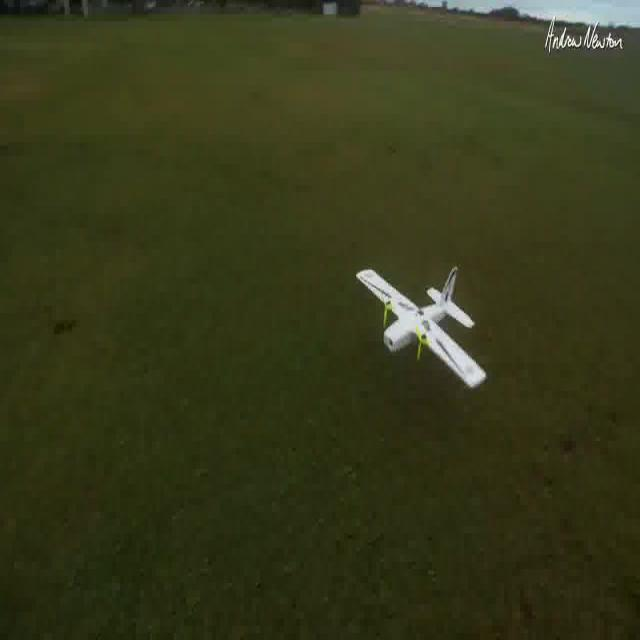iha: (347, 230, 503, 414)
